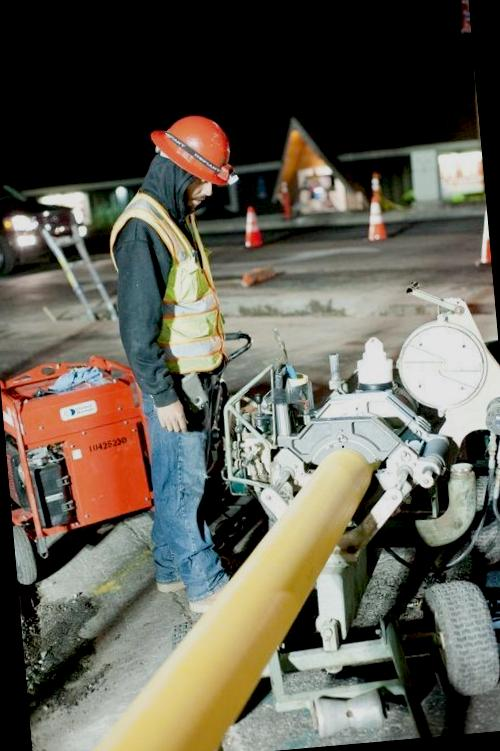helmet: (149, 107, 249, 192)
person: (96, 105, 282, 613)
